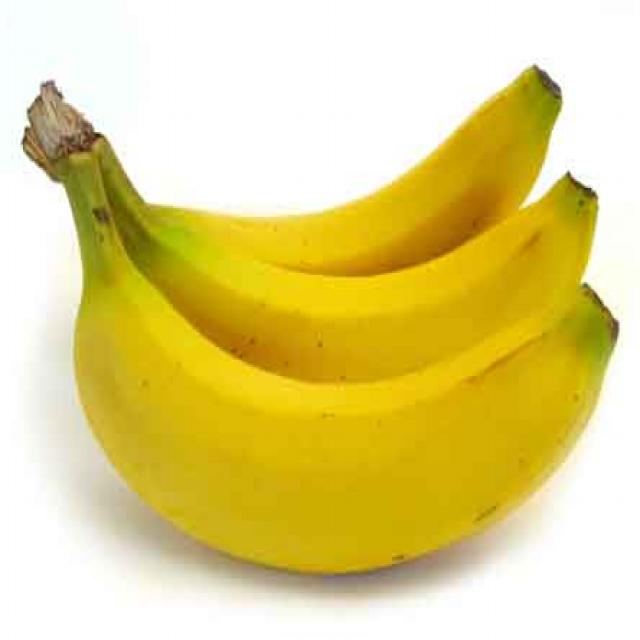banana: (18, 67, 617, 582)
